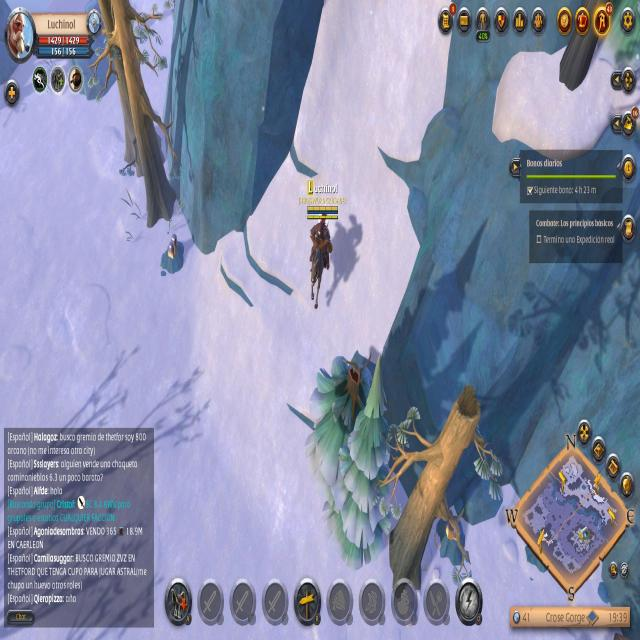piedra_cobre: (431, 504, 475, 570), (157, 226, 192, 286)
